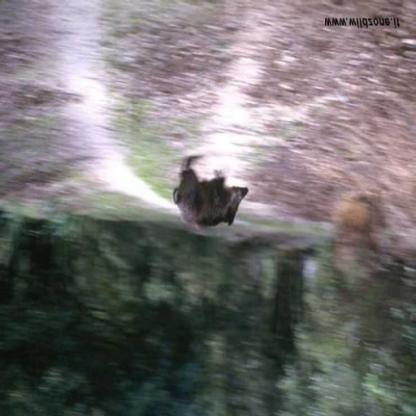boar: (158, 143, 279, 257)
